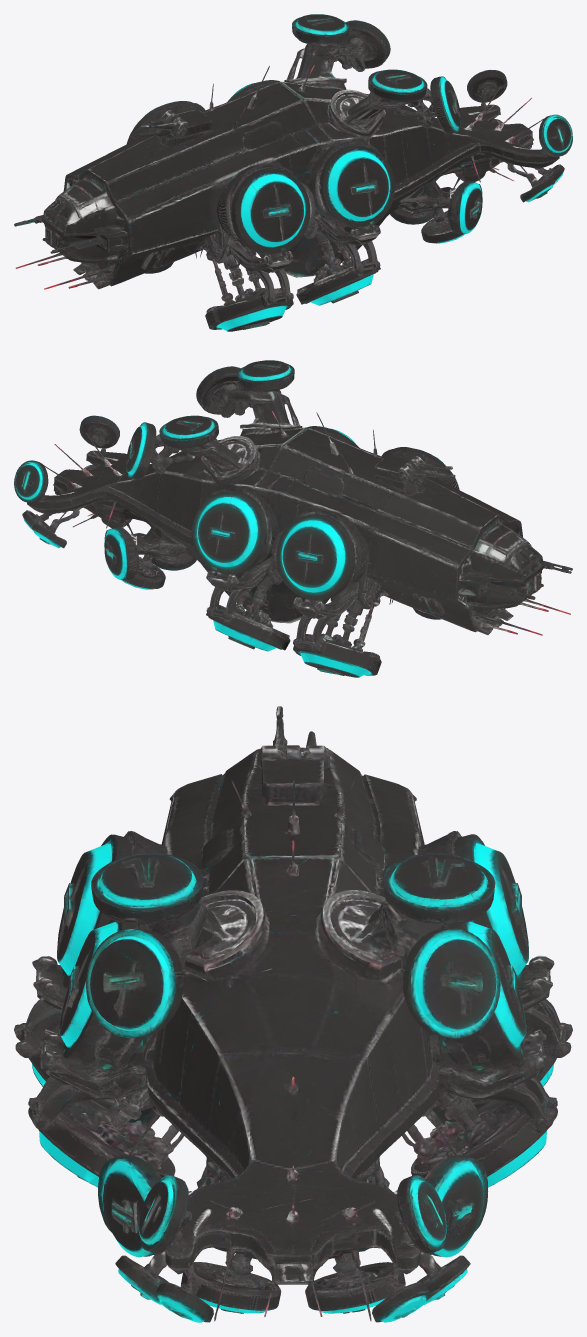
Rendered from hull.glb.
3 views of the same model, one above another, from view 1: azimuth 30°, elevation 25°; view 2: azimuth 150°, elevation 25°; view 3: azimuth 270°, elevation 25° (orthographic). The views are drawn at different scales.
Size of the model in its own units: 1.9 by 0.7734 by 0.9516.
Materials: 1 (1 with a texture image).
